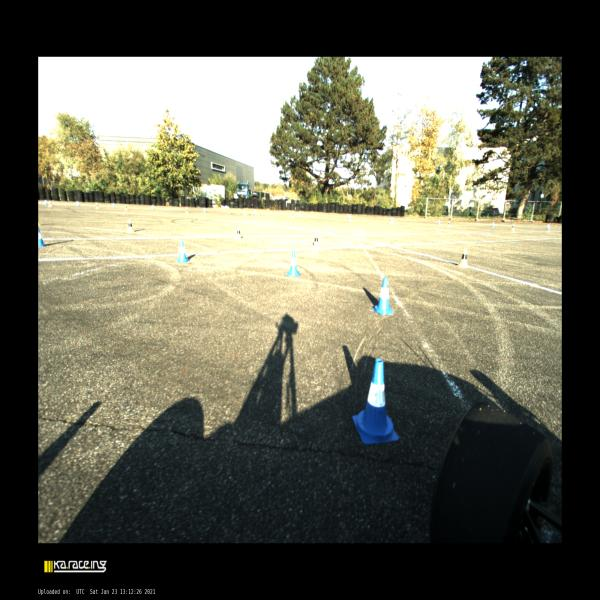blue_cone: (352, 359, 399, 444), (372, 277, 394, 315), (286, 250, 300, 276), (176, 240, 189, 263), (38, 227, 45, 247), (44, 199, 48, 205), (76, 200, 80, 206), (112, 202, 116, 208), (546, 224, 550, 230), (491, 222, 495, 228), (202, 207, 206, 213), (297, 211, 301, 217), (151, 205, 155, 210), (254, 209, 257, 215), (438, 219, 440, 225)
yellow_cone: (456, 247, 470, 268), (126, 219, 135, 233), (234, 225, 242, 240), (312, 234, 320, 249), (48, 200, 52, 207), (95, 202, 99, 209), (511, 224, 515, 231), (124, 204, 128, 210), (185, 207, 189, 213), (38, 218, 41, 226), (389, 218, 392, 223), (349, 216, 352, 221), (292, 212, 294, 219), (448, 221, 450, 227), (244, 210, 246, 216)
